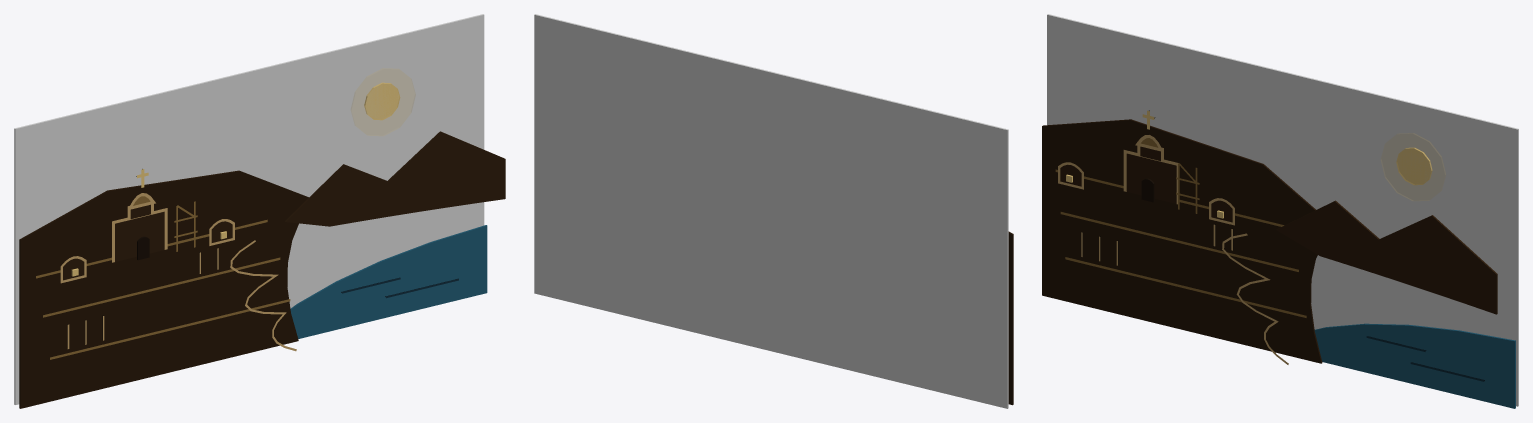
File: loc-verkhnyaya-terrasa.glb
The picture shows the model from 3 angles, left to right: view 1: azimuth 30°, elevation 25°; view 2: azimuth 150°, elevation 25°; view 3: azimuth 330°, elevation 25°; orthographic projection.
Parts seen in each view (by area): view 1: loc-verkhnyaya-terrasa; view 2: loc-verkhnyaya-terrasa; view 3: loc-verkhnyaya-terrasa.
Part boxes in pixels (left/top/right/bottom): loc-verkhnyaya-terrasa: left=14, top=14, right=505, bottom=408; loc-verkhnyaya-terrasa: left=534, top=14, right=1013, bottom=408; loc-verkhnyaya-terrasa: left=1042, top=14, right=1518, bottom=408.
Size of the model in its own units: 5.33 by 3 by 0.44.
